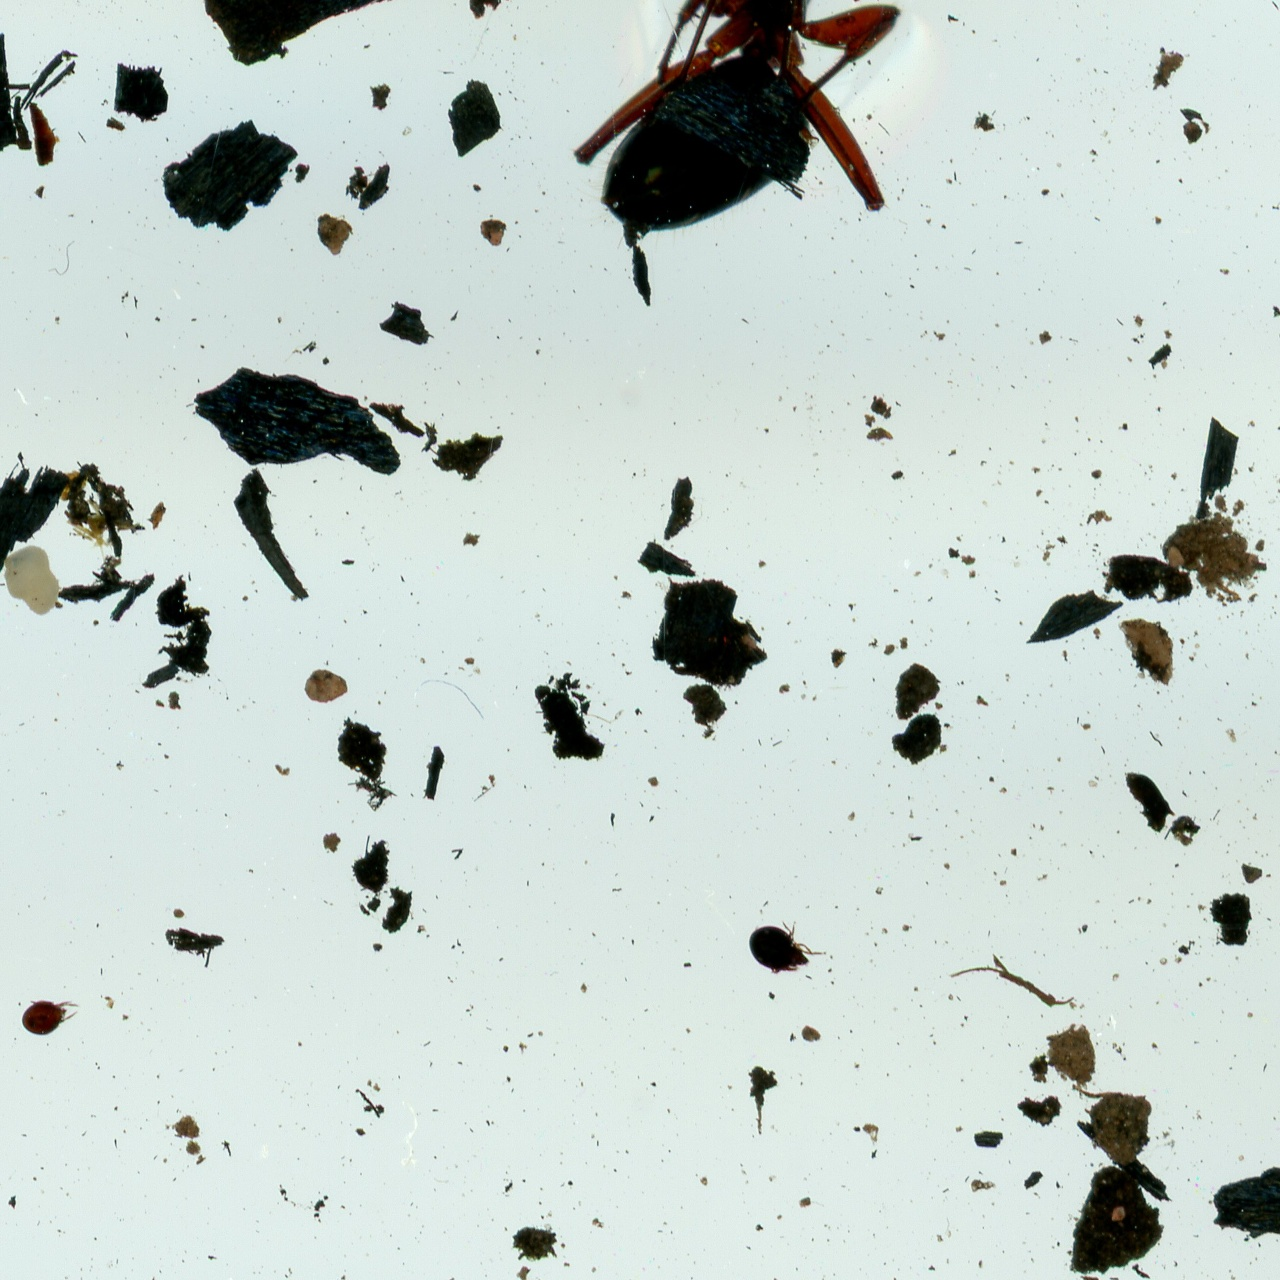arthropod: (542, 0, 937, 259), (741, 915, 831, 980), (19, 993, 82, 1041)
